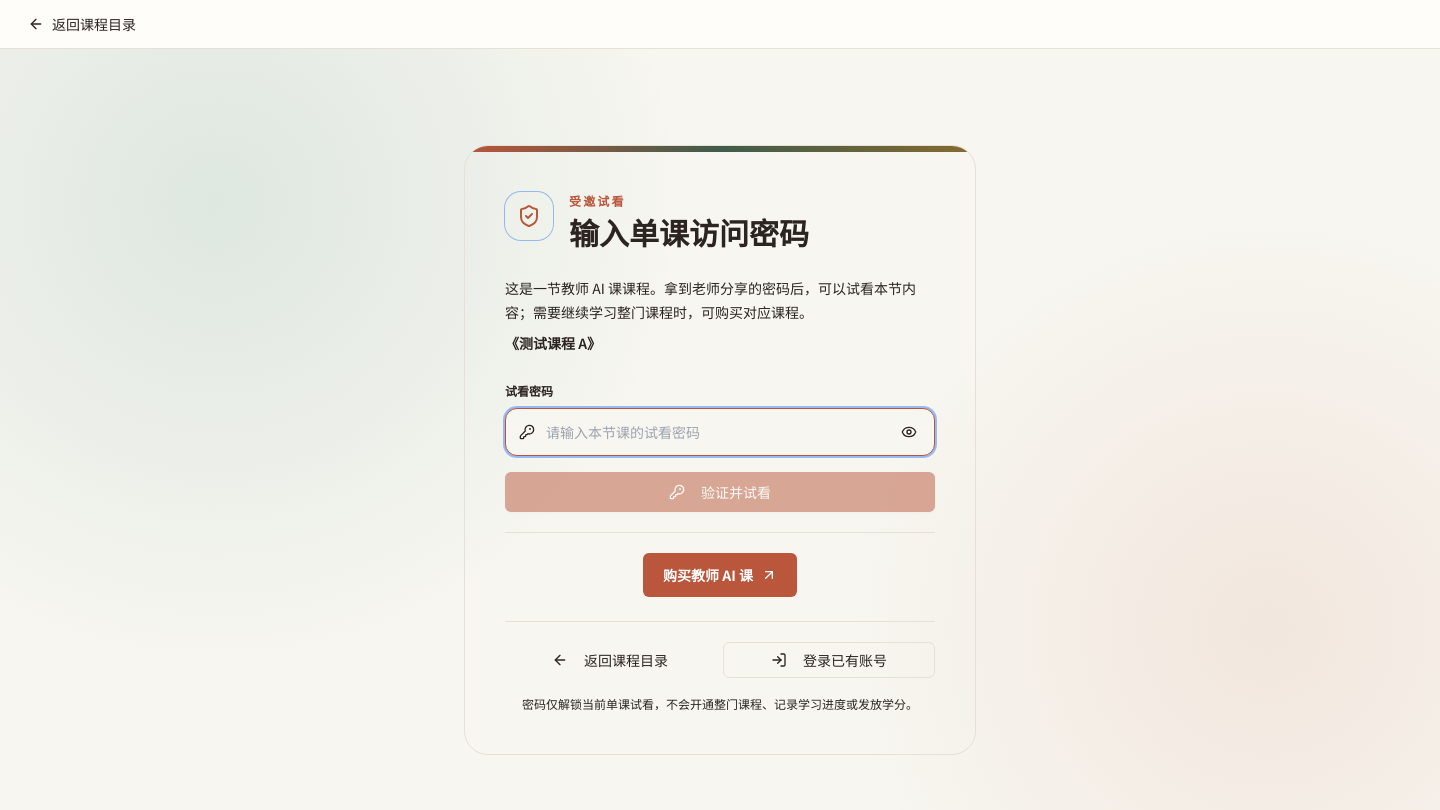
Test: CourseDetailPage — 单课密码试看 › 密码错误时保留门控并显示明确反馈
Type "wrong-password" into the password field labelled "试看密码".
click(720, 432); type("wrong-password")  # box [505,408,935,456]
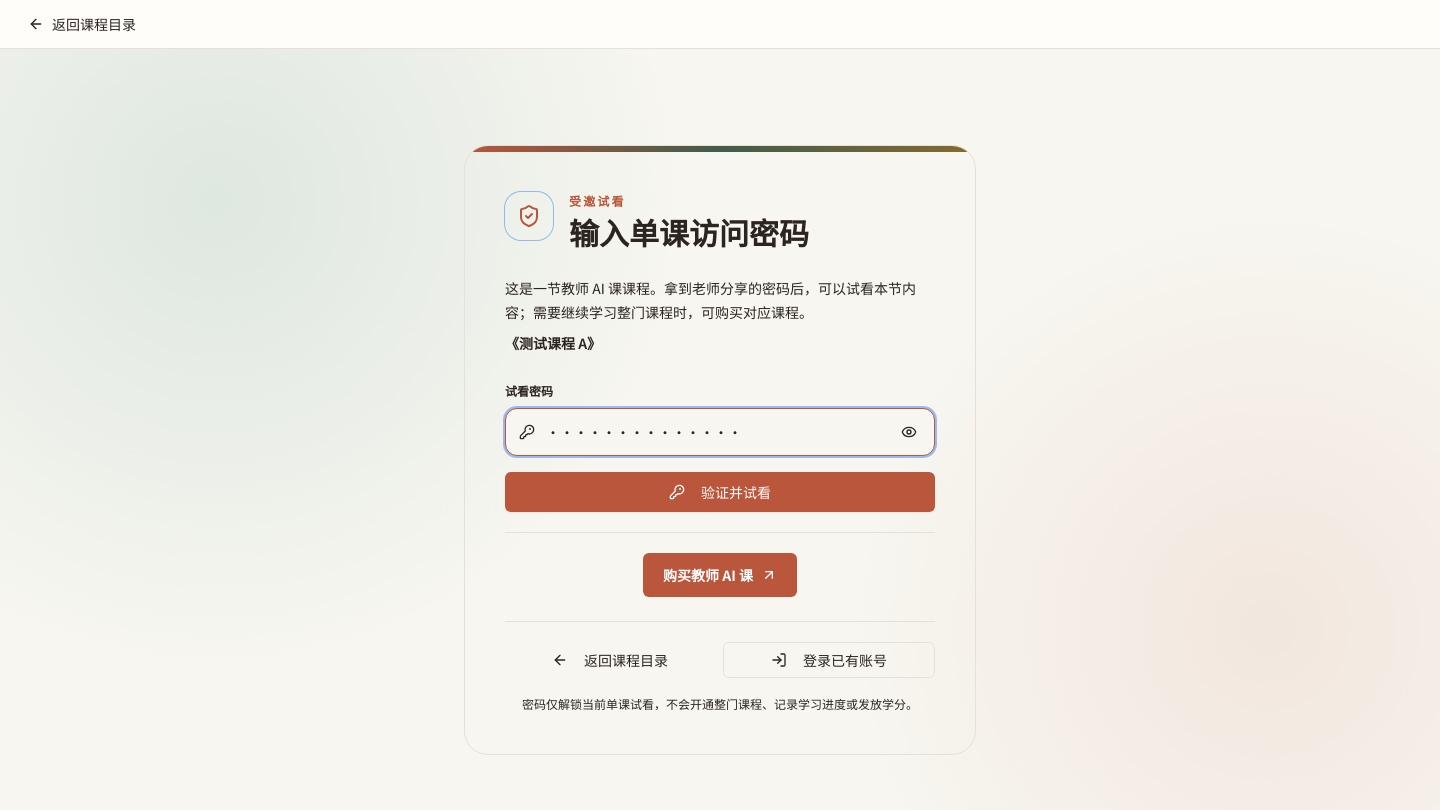
Click the button "验证并试看".
click(720, 492)  # box [505,472,935,512]
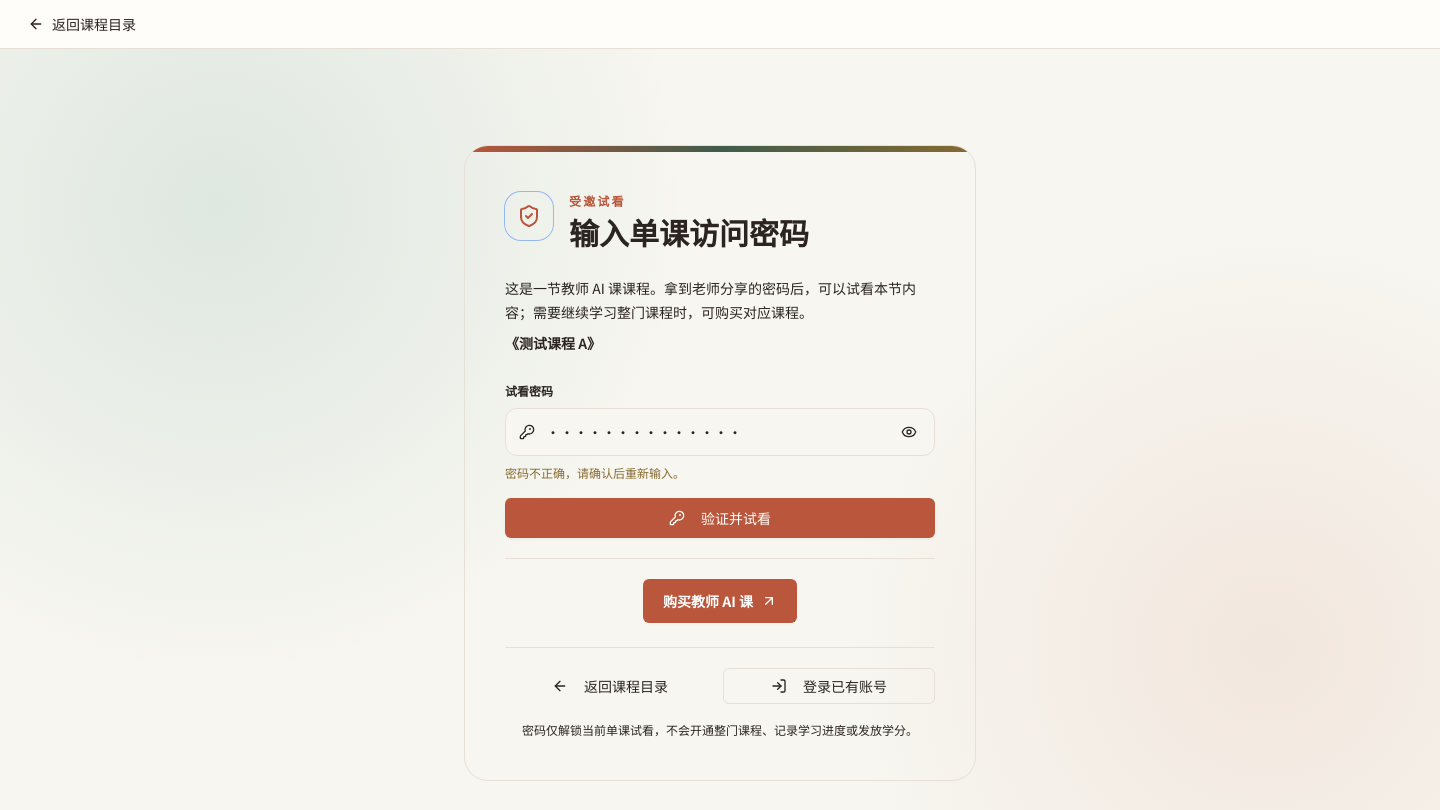
Now the message shows "密码不正确", box [505,464,685,481]
